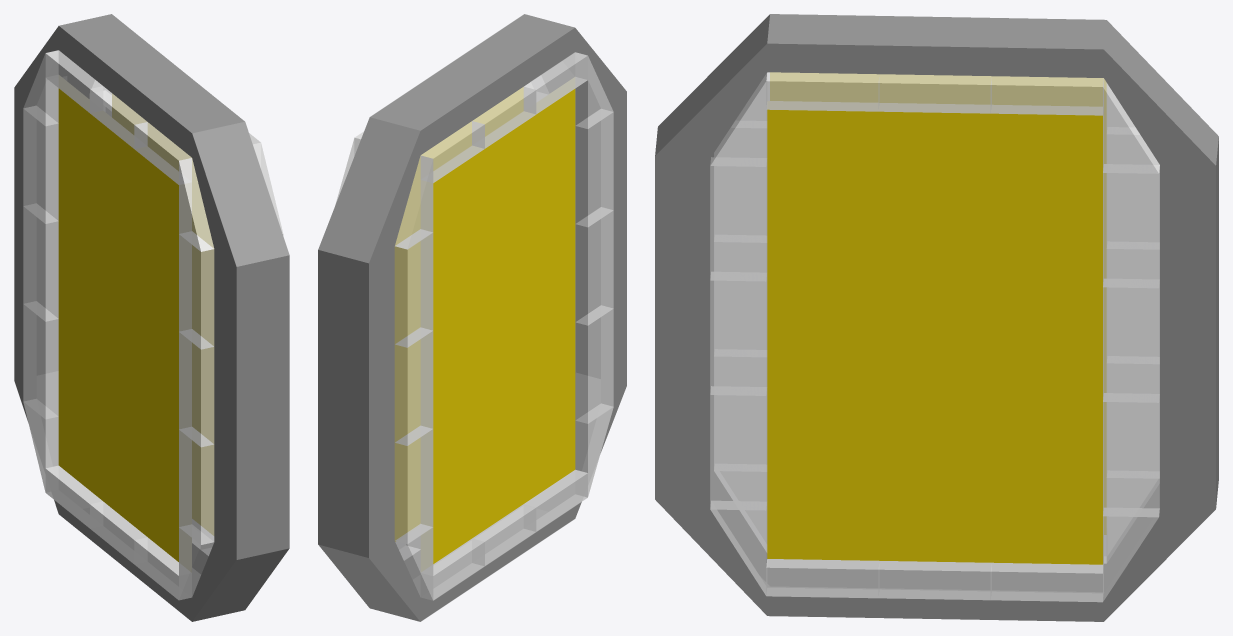
Rendered from coin.fbx.
3 views of the same model, side by side, from view 1: azimuth 30°, elevation 25°; view 2: azimuth 150°, elevation 25°; view 3: azimuth 270°, elevation 25° (orthographic). The views are drawn at different scales.
Parts seen in each view (by area): view 1: Cube; view 2: Cube; view 3: Cube.
Boxes of the visible parts, <box> form: Cube: <box>14,14,289,621</box>; Cube: <box>318,14,626,621</box>; Cube: <box>655,14,1218,621</box>.
Bounding box in the file's own units: 18.13 × 90 × 80.34.
